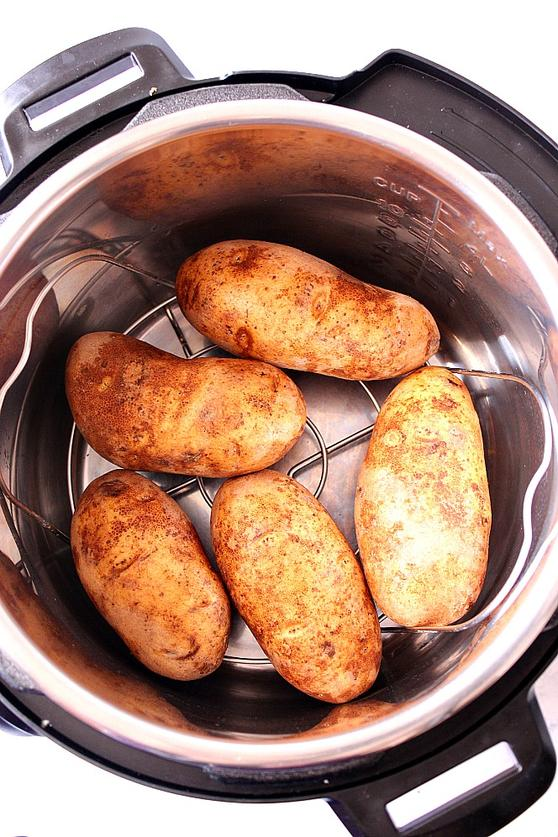potato: (204, 475, 392, 704), (179, 239, 440, 377), (67, 330, 310, 478), (374, 364, 495, 628), (67, 470, 210, 676)
